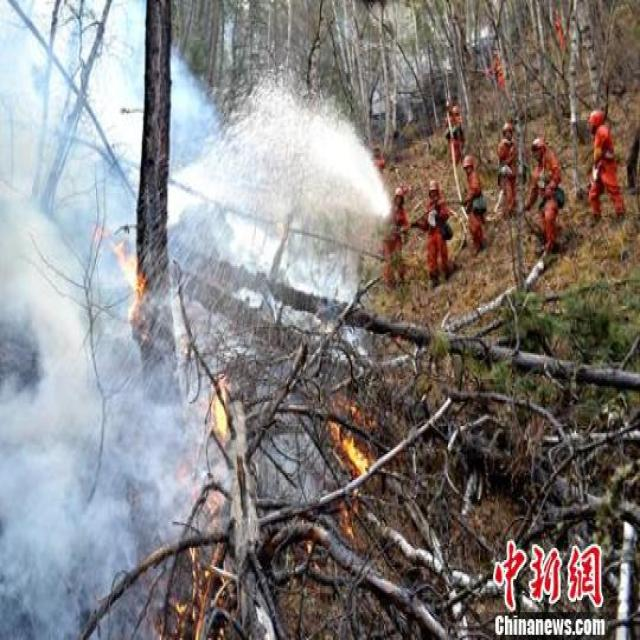fire: (320, 396, 372, 489), (104, 232, 153, 320), (176, 532, 209, 615), (202, 368, 233, 445), (196, 469, 222, 513)
other: (484, 516, 604, 616), (572, 90, 629, 231), (522, 117, 570, 246), (456, 140, 502, 250), (419, 165, 462, 278), (492, 108, 519, 216), (381, 182, 407, 284), (438, 89, 465, 164), (488, 25, 508, 97), (546, 6, 573, 58), (362, 123, 386, 175)
smoke: (9, 231, 94, 530), (93, 42, 151, 146)
